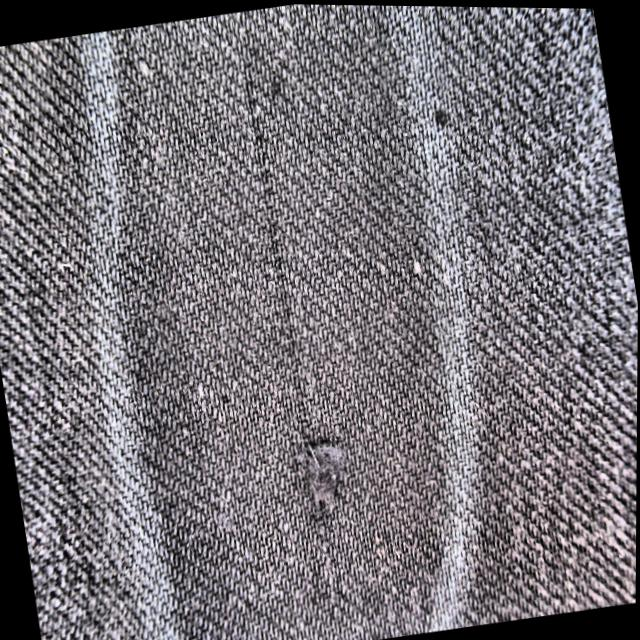Hole: (240, 78, 349, 513), (432, 107, 449, 127)
